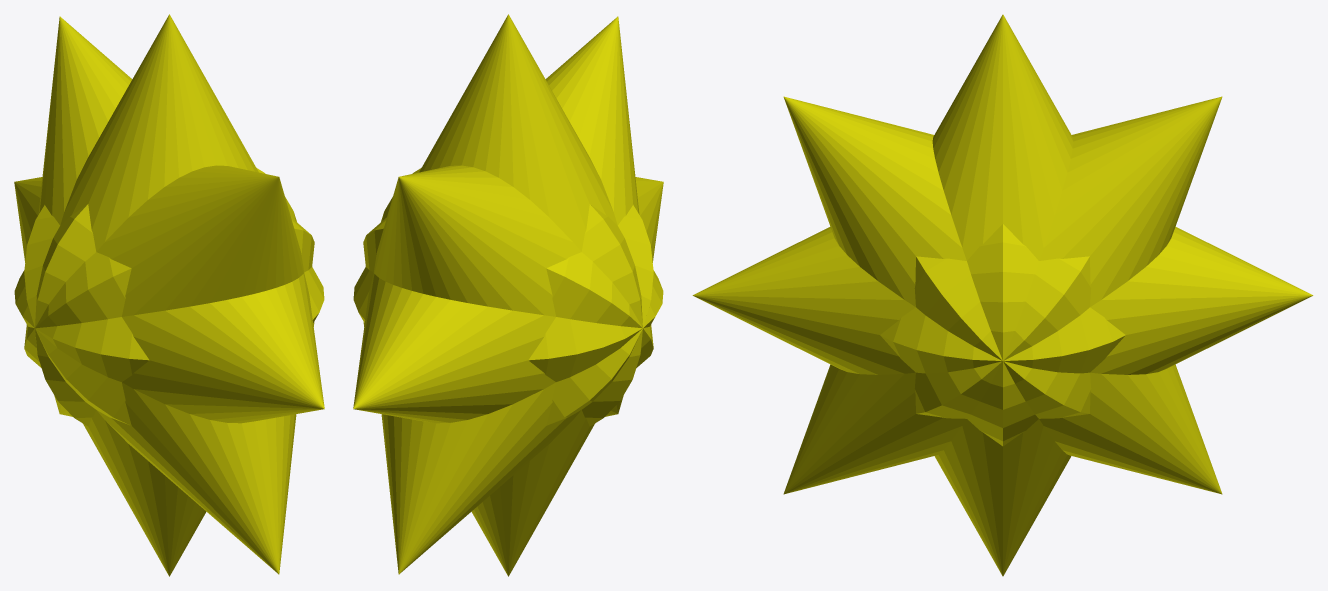
File: star-with-material.dae
The picture shows the model from 3 angles, left to right: view 1: azimuth 30°, elevation 25°; view 2: azimuth 150°, elevation 25°; view 3: azimuth 270°, elevation 25°; orthographic projection.
Visible parts, largest first — view 1: Cone_001; view 2: Cone_001; view 3: Cone_001.
Part boxes in pixels (x1,y1,x2,y2): Cone_001: (14, 14, 324, 576); Cone_001: (353, 14, 663, 576); Cone_001: (692, 14, 1313, 576).
Bounding box in the file's own units: 2 × 4 × 4.
